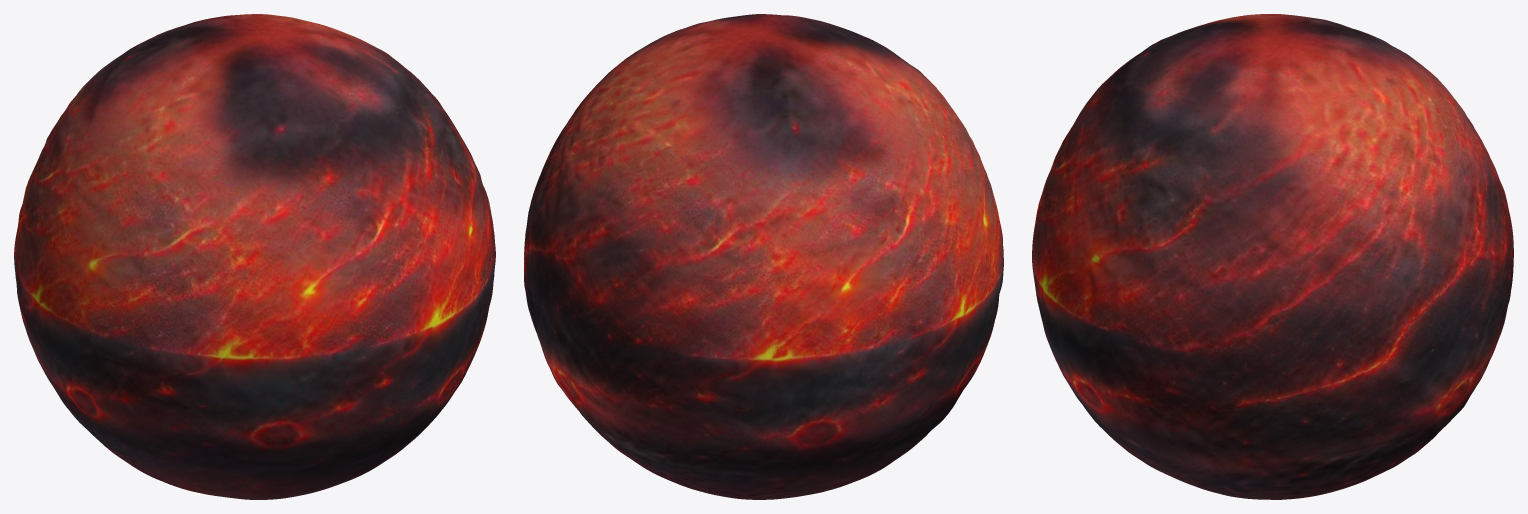
Rendered from anger.glb.
The picture shows the model from 3 angles, left to right: view 1: azimuth 30°, elevation 25°; view 2: azimuth 150°, elevation 25°; view 3: azimuth 270°, elevation 25°; orthographic projection.
Visible parts, largest first — view 1: geometry_0; view 2: geometry_0; view 3: geometry_0.
Boxes of the visible parts, box(x1,y1,x2,y2) form: geometry_0: box(14, 14, 495, 499); geometry_0: box(524, 14, 1003, 499); geometry_0: box(1032, 14, 1513, 499).
Size of the model in its own units: 0.5918 by 0.5997 by 0.5915.
1 material, 1 textured.
